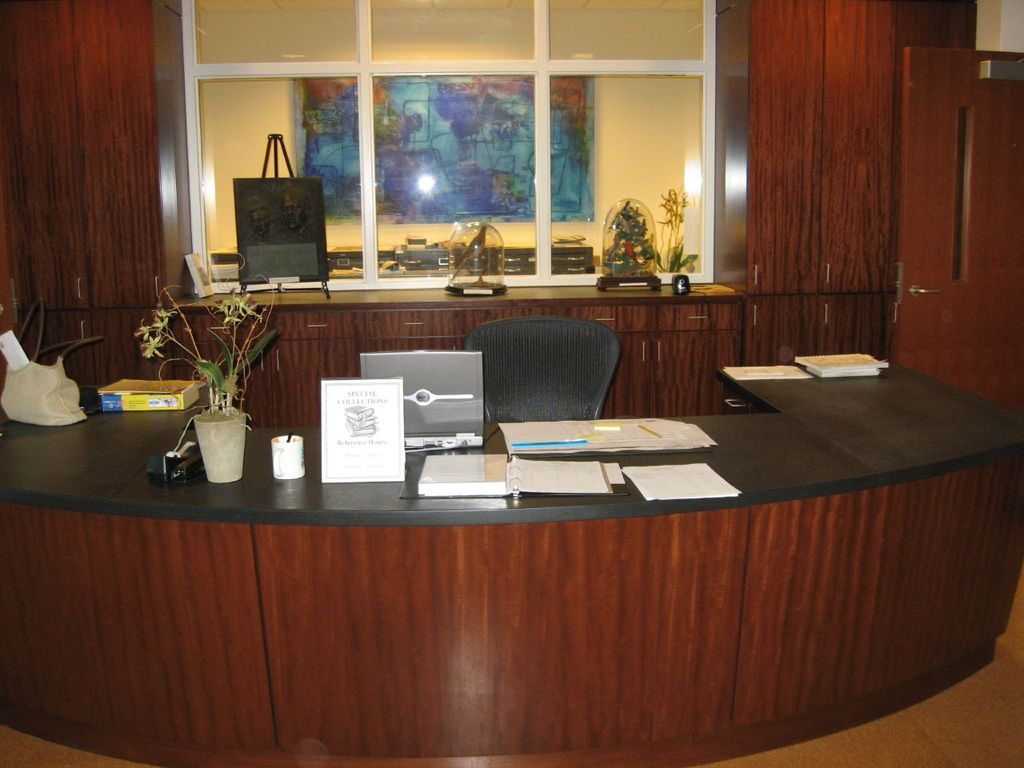Cabinetry: (0, 310, 1023, 746), (0, 0, 982, 426)
